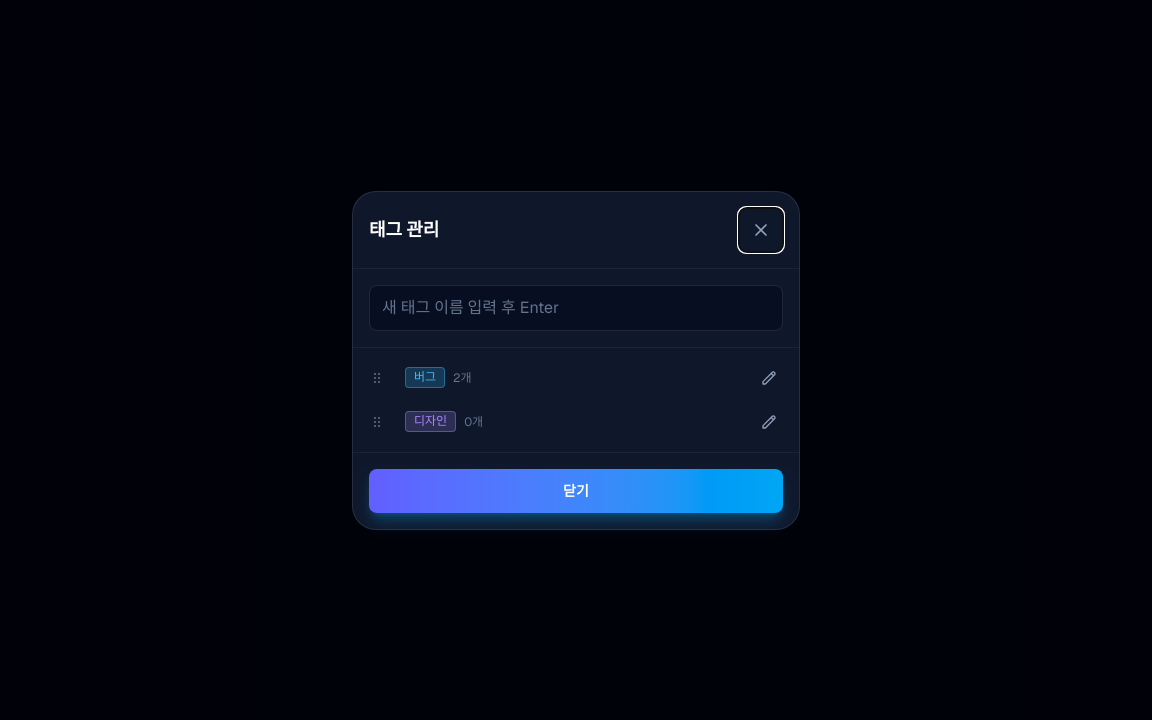
Scenario: TagModal — 저장하지 않은 변경 › 변경이 있을 때 Esc는 확인창을 띄우고, 확인창의 Esc는 확인창만 닫는다
Click the button named "버그 태그 수정".
click(769, 378)  # box [747,356,791,400]
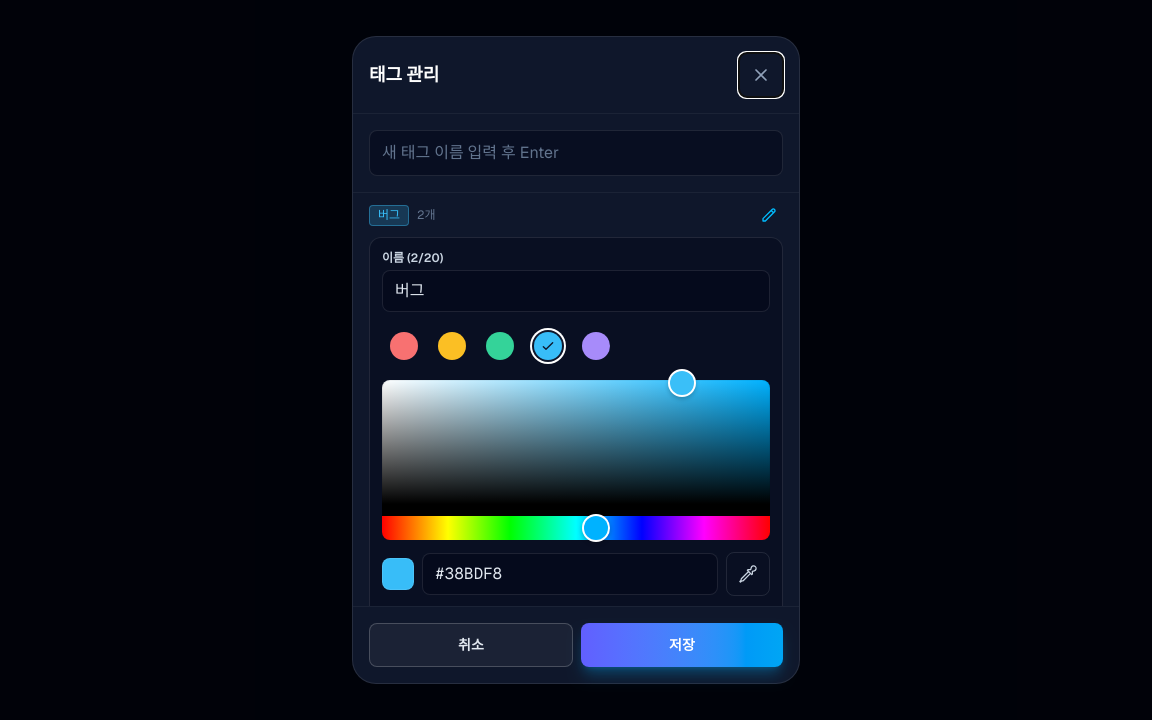
Click the button named "추천 색 #F87171".
click(404, 346)  # box [382,324,426,368]
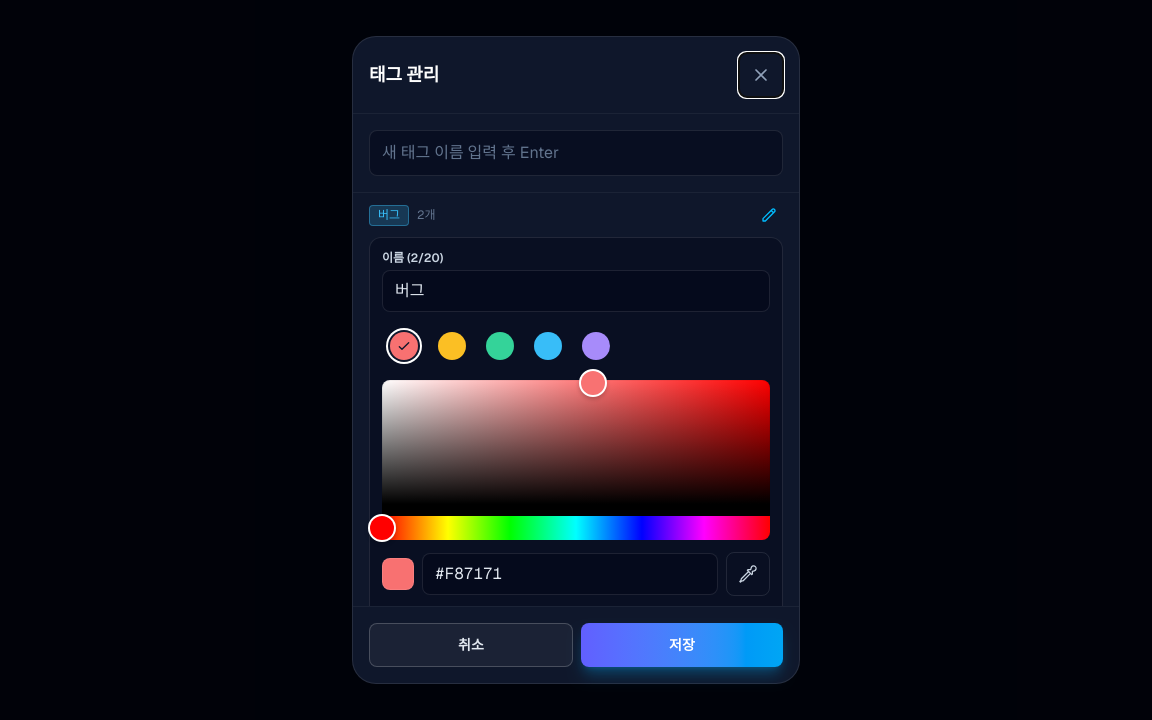
Press Escape
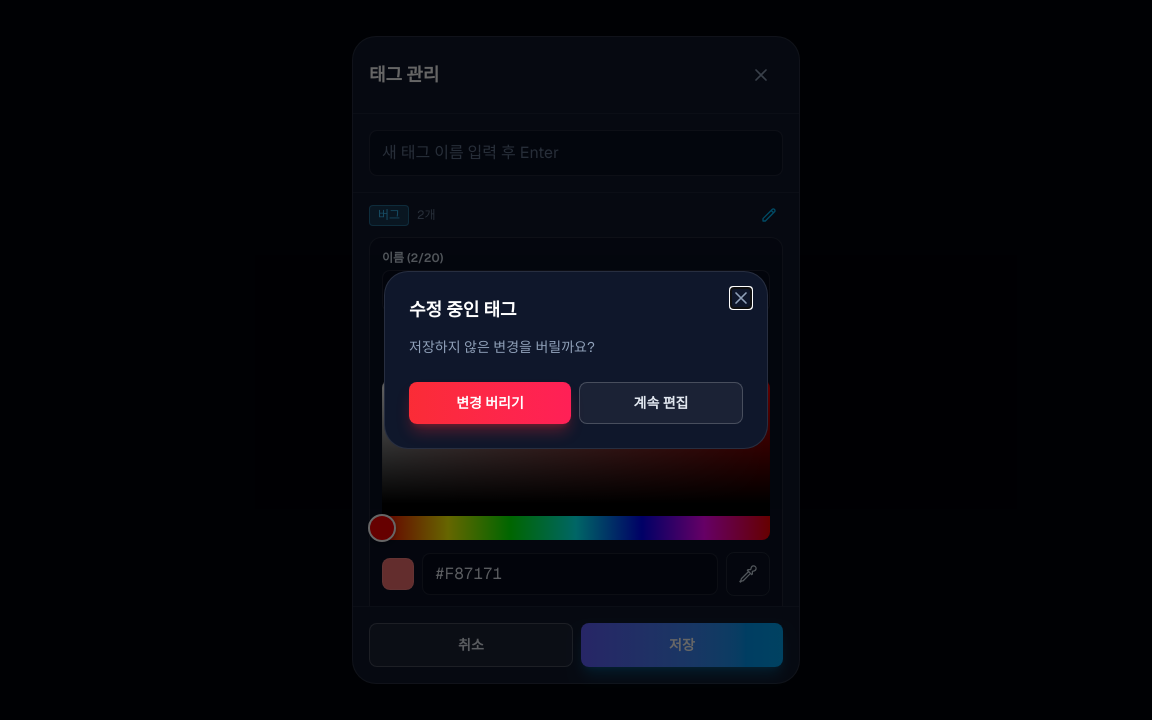
Now the dialog "수정 중인 태그" is shown, box [384,271,768,449]
Press Escape
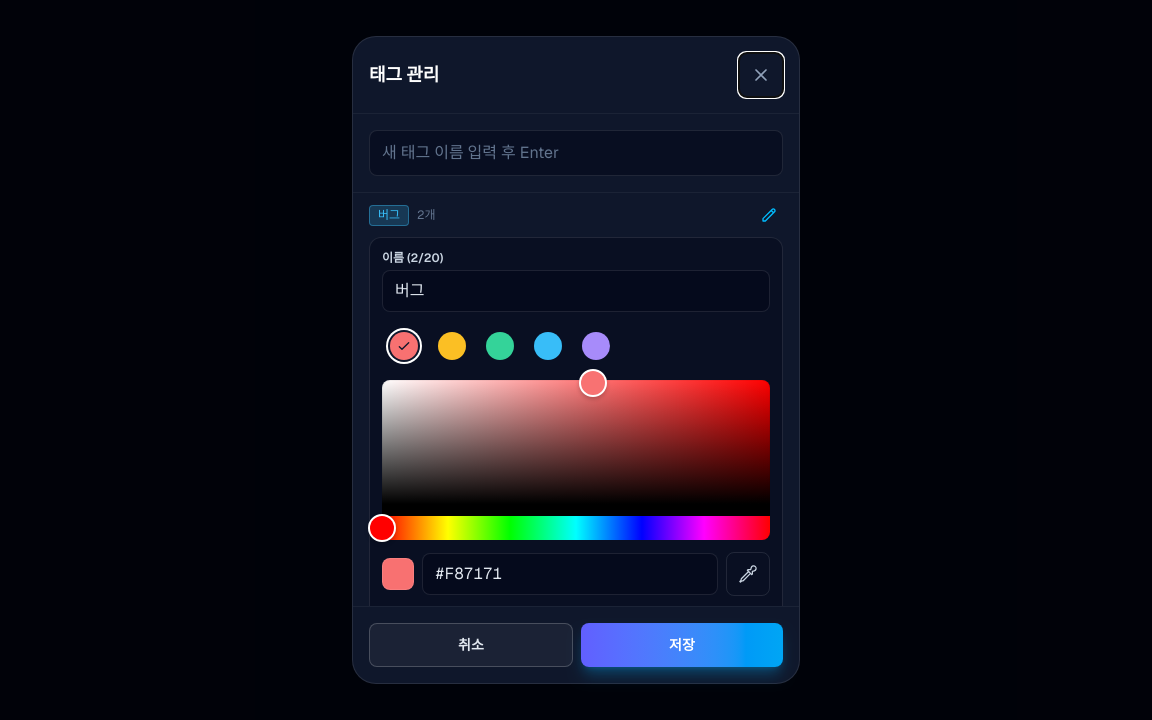
Now the button "저장" is shown, box [581,623,783,667]
Now the heading "수정 중인 태그" is gone
